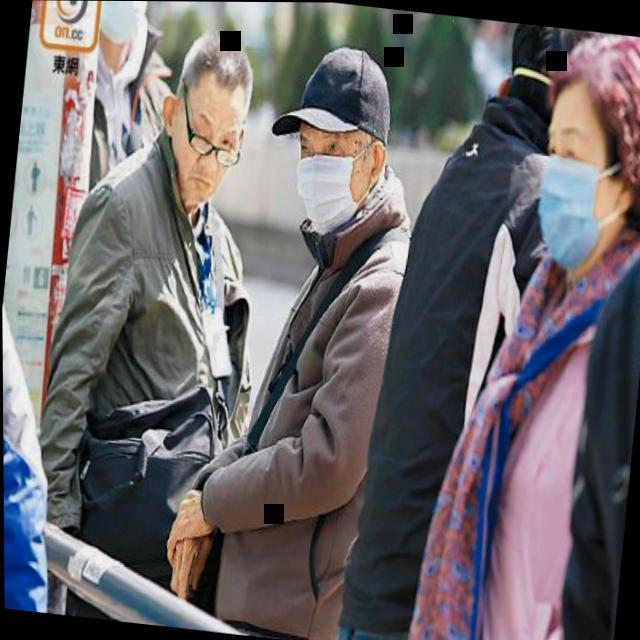Mask: (515, 24, 640, 283), (266, 36, 403, 246), (94, 1, 155, 50)
NO-Mask: (140, 17, 264, 220)
